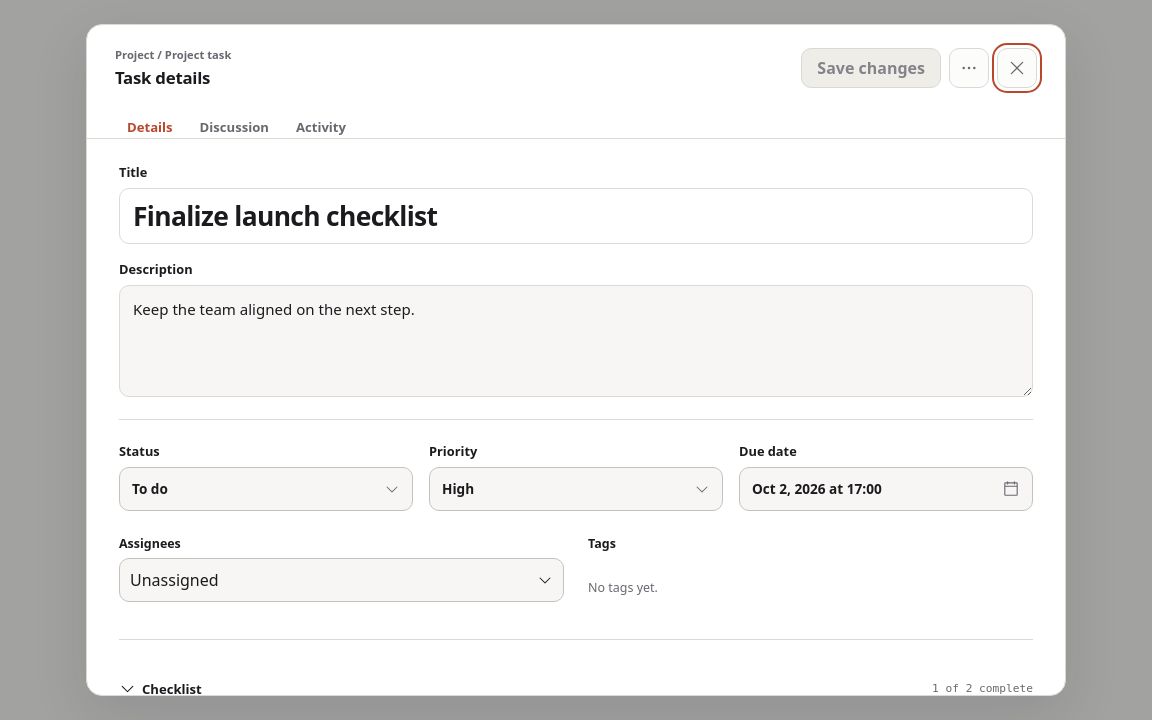
shows local project discussion and activity while disabling guest comments
Step 1. Click the button "discussion" → x=234, y=128, box top-left (188, 107), bottom-right (281, 149)
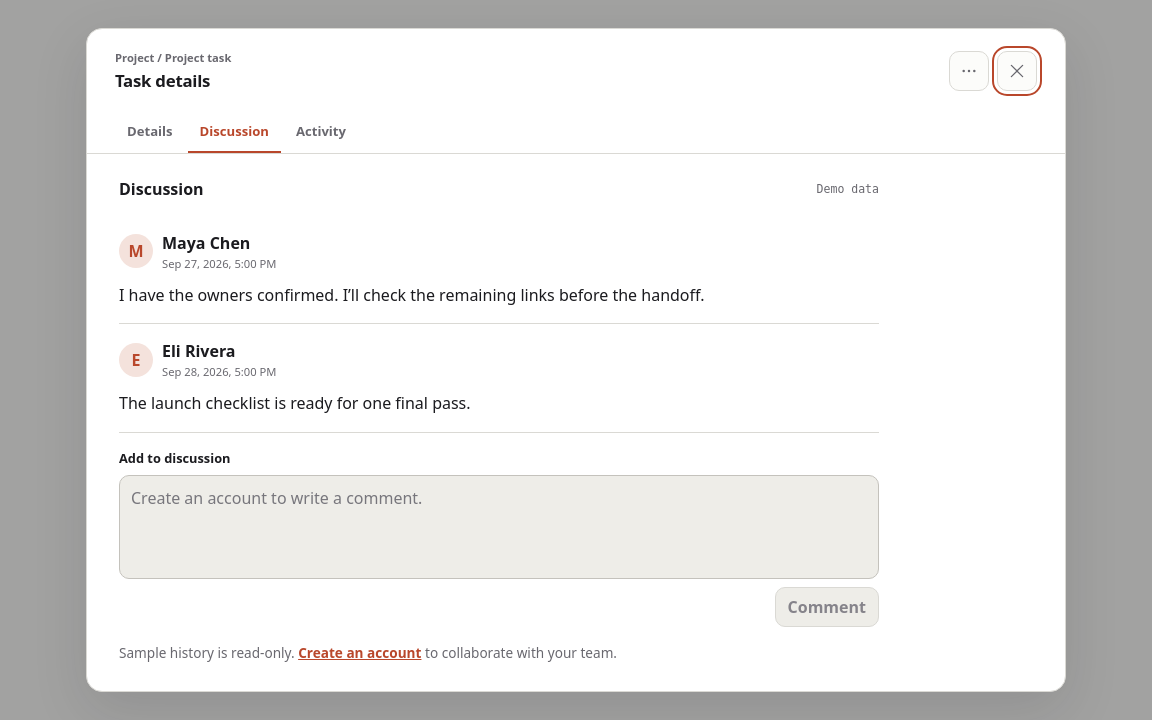
Expected: the text "I have the owners confirmed" is shown, top-left (119, 284), bottom-right (704, 306)
Expected: the text box labelled "Add to discussion" is disabled, top-left (119, 475), bottom-right (879, 579)
Expected: the button "Comment" is disabled, top-left (775, 587), bottom-right (879, 627)
Step 2. Click the button "activity" → x=321, y=132, box top-left (284, 110), bottom-right (358, 152)
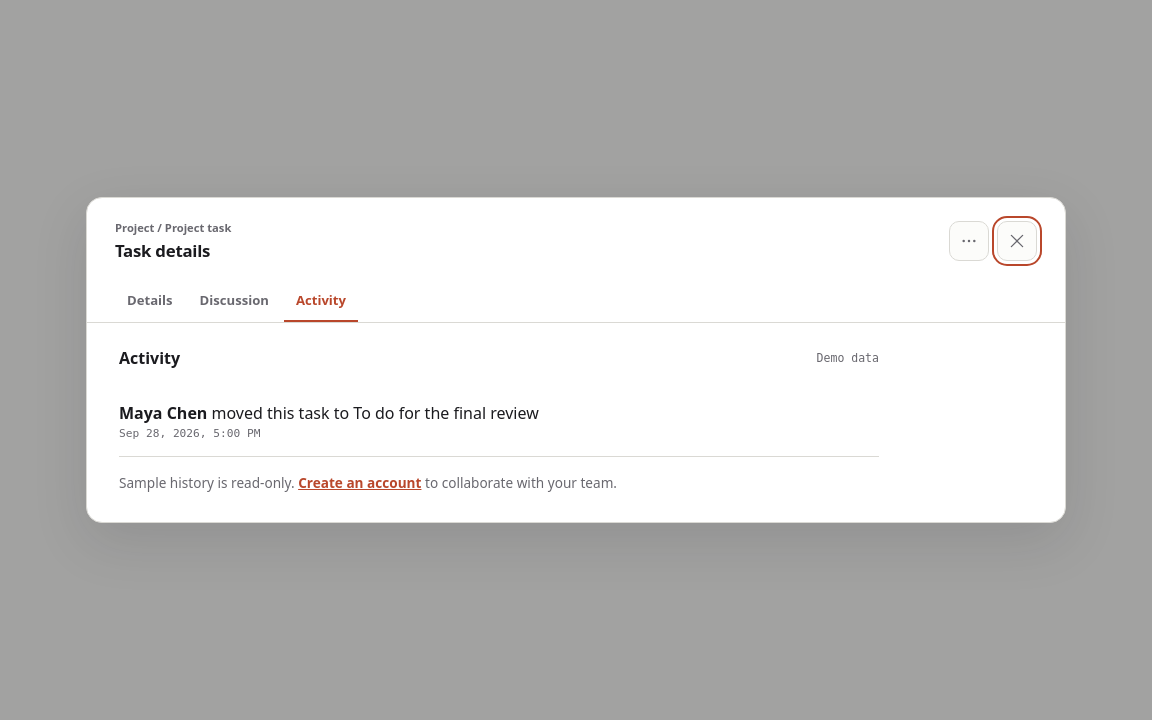
Expected: the text "Maya Chen moved this task to To do for the final review" is shown, top-left (119, 402), bottom-right (539, 424)
